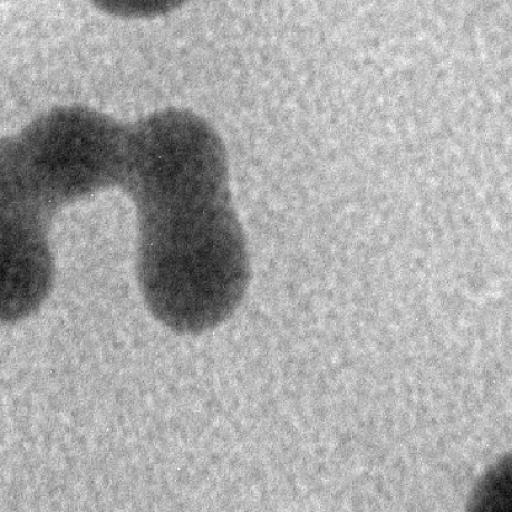Nanoparticles: (131, 202, 252, 339), (128, 108, 228, 208), (26, 104, 136, 194), (0, 210, 54, 326), (0, 135, 65, 223), (466, 457, 512, 512)
